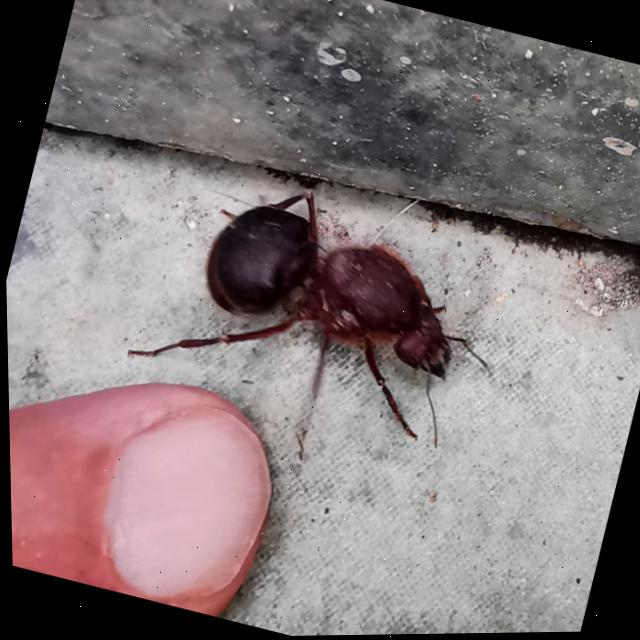Alive-Female-Dealate: (105, 152, 522, 506)
